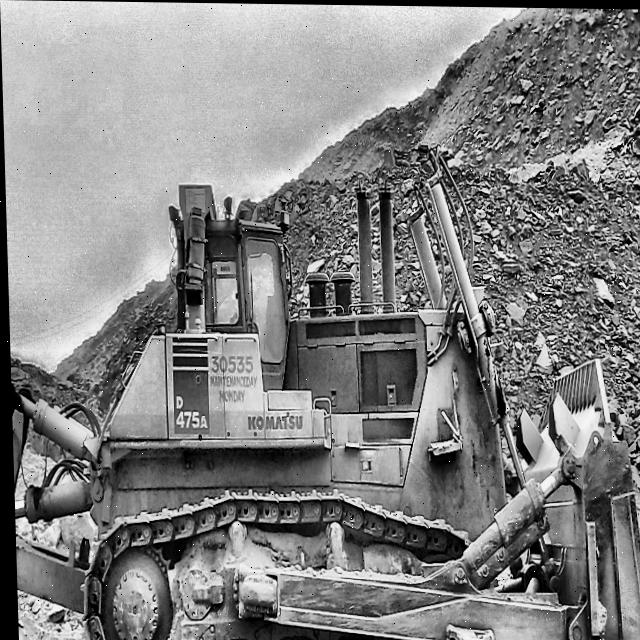buldozerpayloadergrader: (9, 152, 640, 640)
